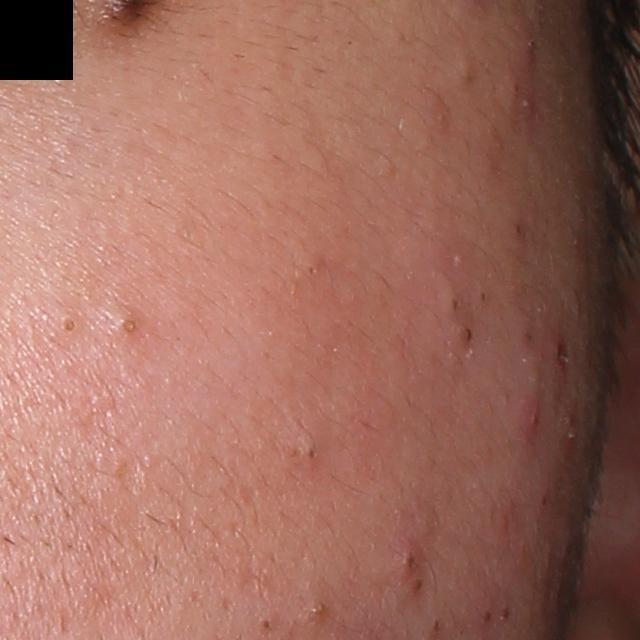comedo: (443, 289, 465, 316), (309, 599, 329, 626), (458, 321, 475, 349), (402, 549, 419, 574), (257, 614, 275, 636), (60, 316, 77, 337), (473, 289, 490, 308), (479, 605, 493, 628), (303, 444, 318, 465), (305, 260, 318, 281), (500, 601, 511, 623), (413, 578, 425, 594)
papule: (516, 396, 546, 437)
